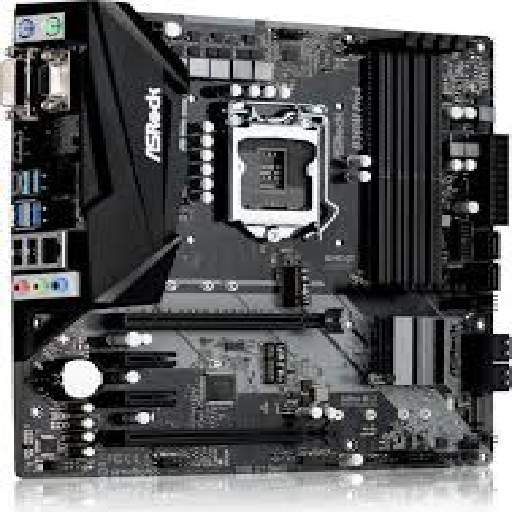CPU: (223, 96, 340, 247)
GPU: (112, 303, 356, 338), (106, 421, 335, 454)
MOTHERBOARD: (4, 6, 512, 471)
RAM: (359, 30, 471, 296)
SSD: (273, 249, 316, 305), (256, 340, 296, 386)
